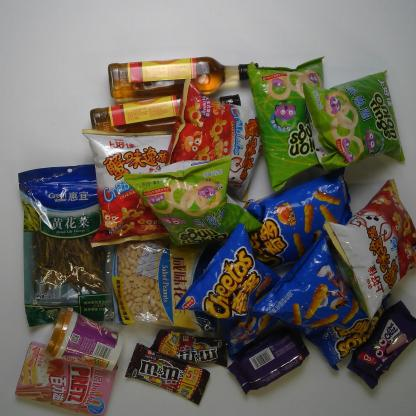Chocolate: (126, 345, 213, 404), (141, 320, 228, 374)
Dessert: (11, 338, 121, 411), (223, 327, 317, 402), (346, 302, 416, 396)
Dried Food: (8, 154, 120, 332)
Dried Fruit: (100, 229, 232, 332)
Instant Drink: (34, 294, 126, 378)
Puffed Food: (252, 233, 388, 371), (311, 172, 416, 324), (122, 140, 262, 252), (237, 153, 364, 271), (293, 51, 416, 170), (247, 40, 341, 194), (193, 214, 283, 373), (159, 70, 267, 198), (74, 124, 171, 250)
Seasoner: (94, 39, 270, 102), (87, 87, 250, 145)
